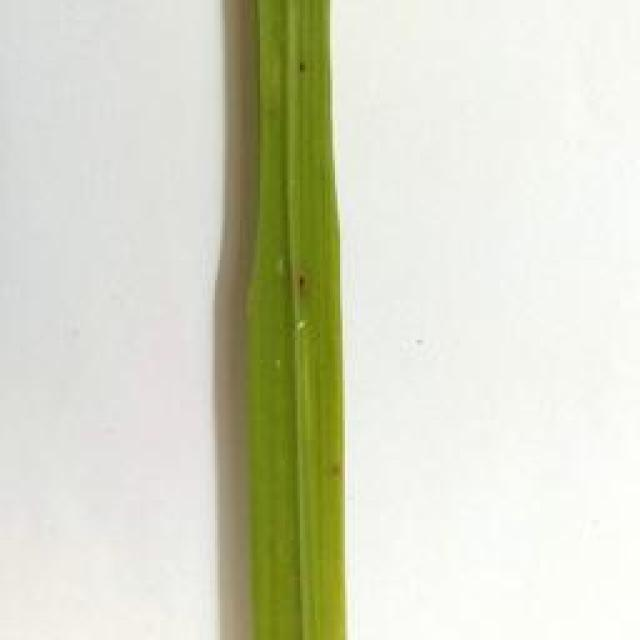Brown_Spot: (262, 235, 340, 332), (280, 50, 325, 90), (321, 450, 349, 490)
